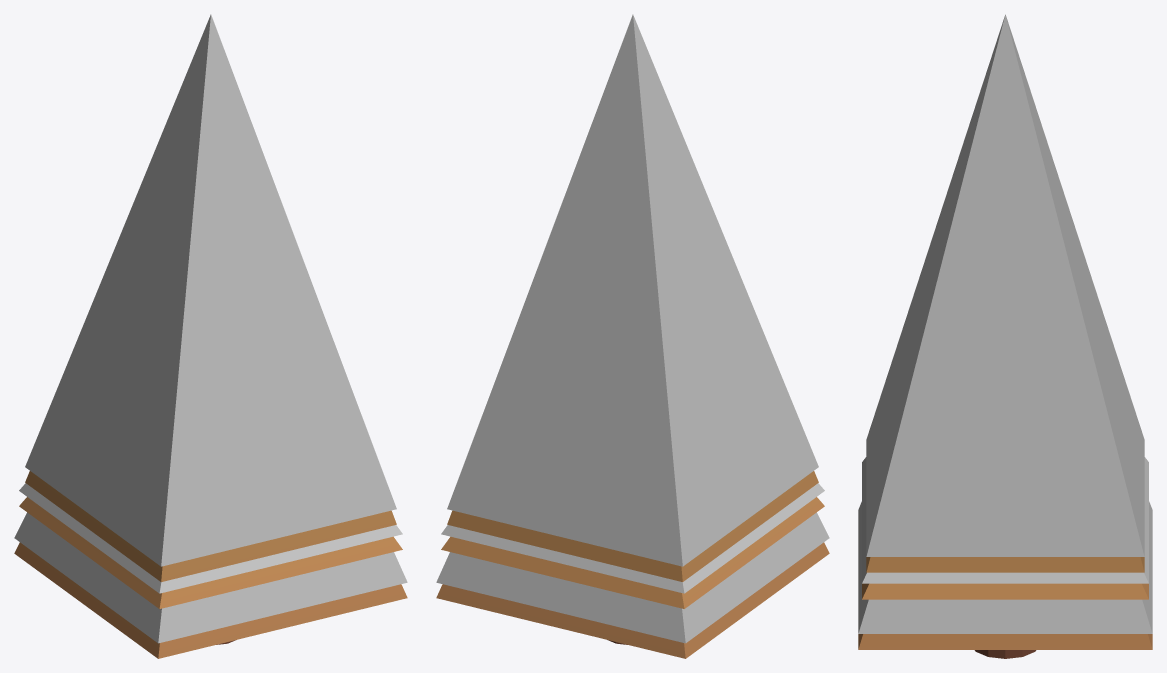
Rendered from Tree_34_winter_gradient_yellow_vc.fbx.
3 renders of one model, left to right at view 1: azimuth 30°, elevation 25°; view 2: azimuth 150°, elevation 25°; view 3: azimuth 270°, elevation 25°, orthographic. The views are drawn at different scales.
Visible parts, largest first — view 1: Tree_34_winter_gradient_yellow_vc; view 2: Tree_34_winter_gradient_yellow_vc; view 3: Tree_34_winter_gradient_yellow_vc.
Part boxes in pixels (<box>): Tree_34_winter_gradient_yellow_vc: <box>14,14,407,658</box>; Tree_34_winter_gradient_yellow_vc: <box>436,14,829,658</box>; Tree_34_winter_gradient_yellow_vc: <box>858,14,1152,658</box>.
Bounding box in the file's own units: 83.78 × 198 × 83.78.
